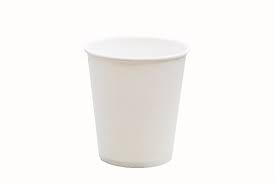cup: (79, 30, 190, 169)
